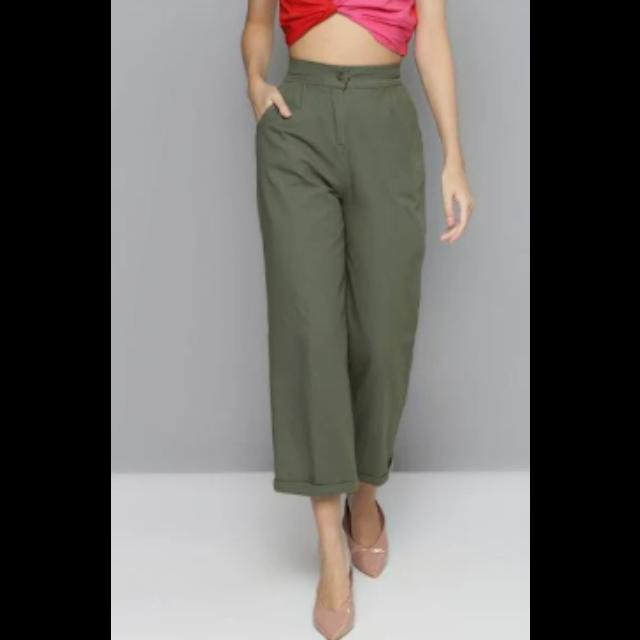bottom: (253, 58, 415, 498)
